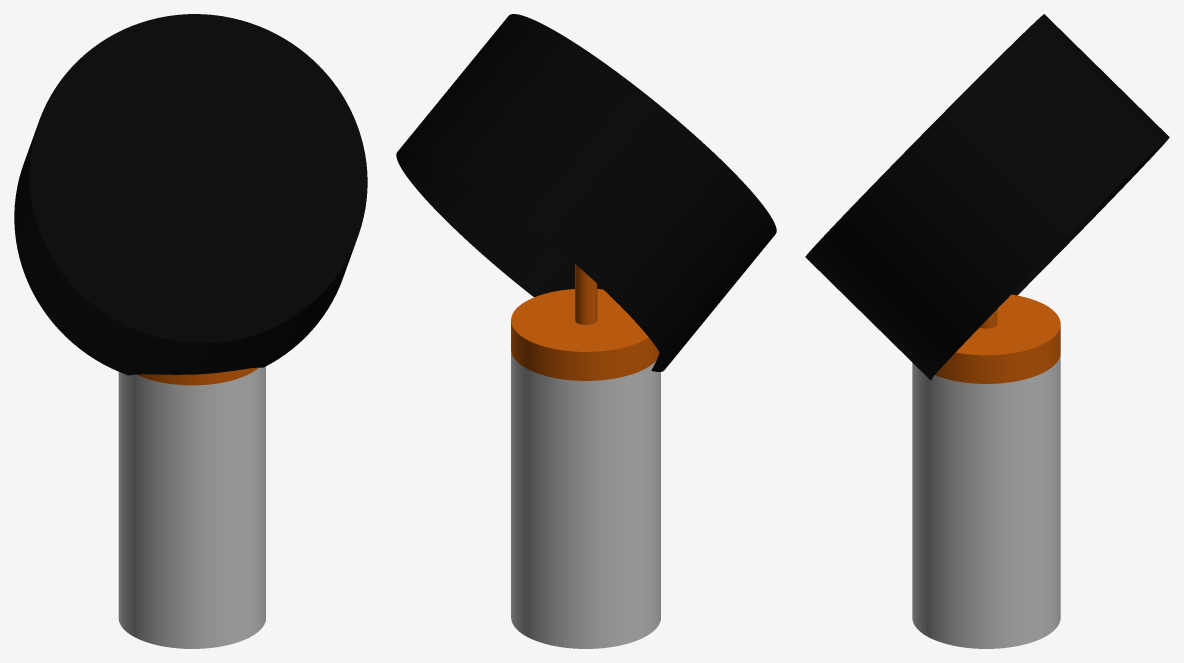
File: lamp19.obj
3 views of the same model, side by side, from view 1: azimuth 30°, elevation 25°; view 2: azimuth 150°, elevation 25°; view 3: azimuth 270°, elevation 25° (orthographic).
Parts seen in each view (by area): view 1: Cylinder.002, Cylinder, Cylinder.001; view 2: Cylinder.002, Cylinder, Cylinder.001; view 3: Cylinder.002, Cylinder, Cylinder.001.
Boxes of the visible parts, x1=… form: Cylinder.002: x1=14, y1=14, x2=367, y2=375; Cylinder: x1=118, y1=366, x2=265, y2=648; Cylinder.001: x1=137, y1=367, x2=258, y2=385; Cylinder.002: x1=396, y1=14, x2=776, y2=371; Cylinder: x1=511, y1=350, x2=660, y2=648; Cylinder.001: x1=511, y1=264, x2=659, y2=380; Cylinder.002: x1=805, y1=14, x2=1169, y2=380; Cylinder: x1=912, y1=354, x2=1060, y2=648; Cylinder.001: x1=935, y1=294, x2=1060, y2=383.
Size of what is drawn, in the model's own units: 5.11 by 8.78 by 4.91.
